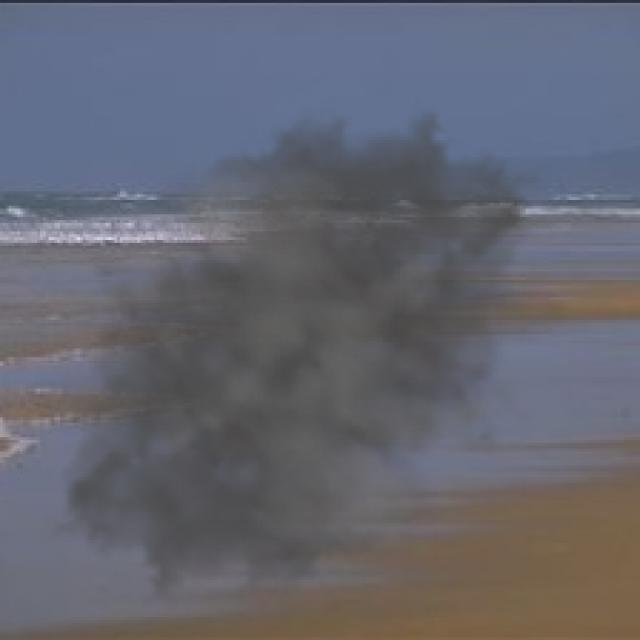smoke: (23, 75, 568, 634)
